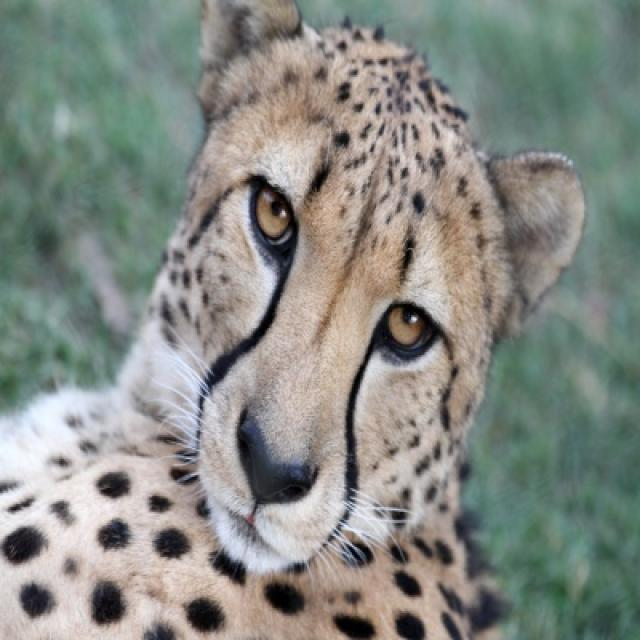Cheetah: (0, 0, 582, 638)
